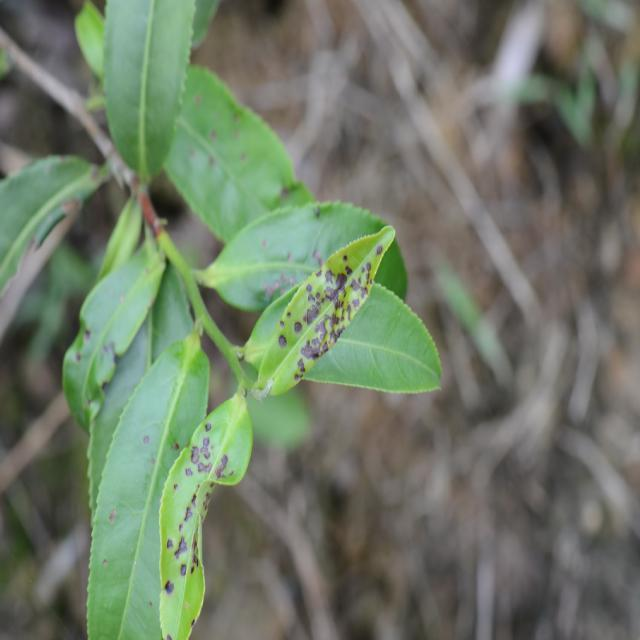Tea red scab: (156, 428, 242, 613), (290, 258, 386, 374)
